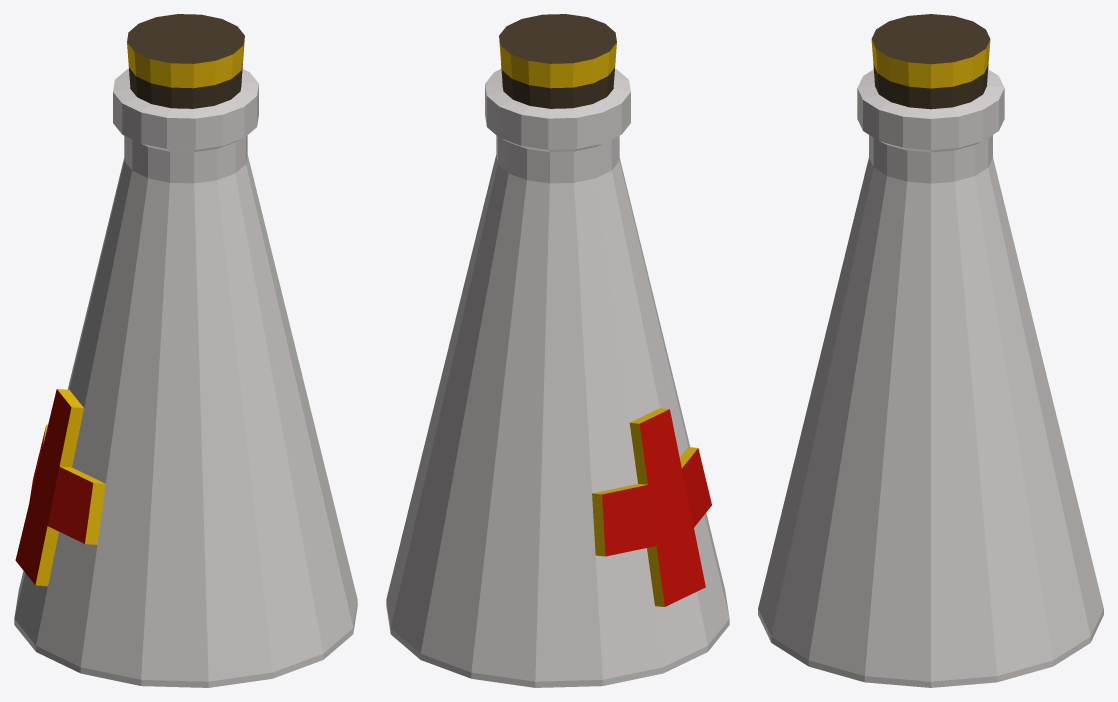
Rendered from Antivenom4star.fbx.
3 views of the same model, side by side, from view 1: azimuth 30°, elevation 25°; view 2: azimuth 150°, elevation 25°; view 3: azimuth 270°, elevation 25° (orthographic).
Visible parts, largest first — view 1: Bottle; view 2: Bottle; view 3: Bottle.
Boxes of the visible parts, bbox=[...] form: Bottle: bbox=[14, 14, 357, 687]; Bottle: bbox=[386, 14, 729, 687]; Bottle: bbox=[758, 14, 1103, 687].
Bounding box in the file's own units: 136 × 249 × 136.
